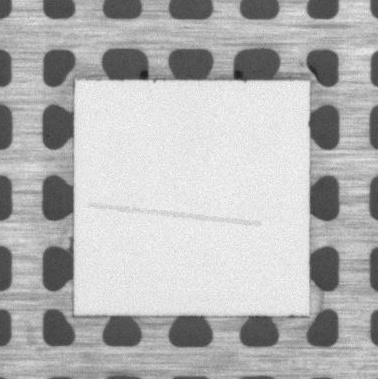DIE_CRACK: (89, 206, 259, 225)
